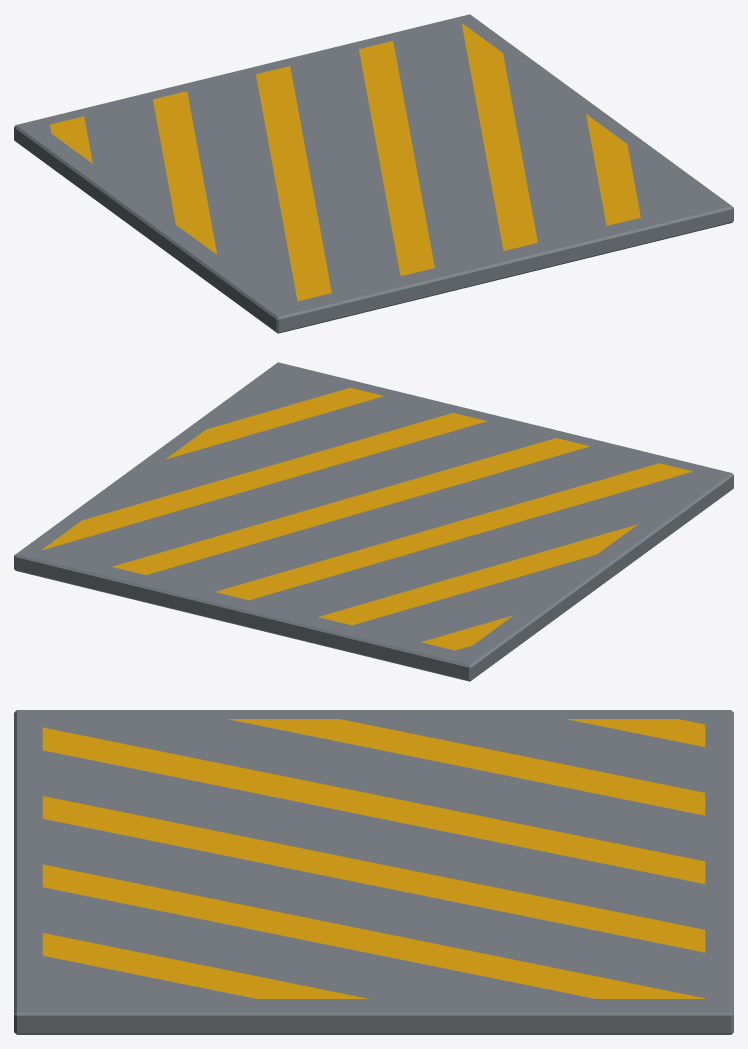
Rendered from YellowHatchTile.fbx.
3 renders of one model, top to bottom at view 1: azimuth 30°, elevation 25°; view 2: azimuth 150°, elevation 25°; view 3: azimuth 270°, elevation 25°, orthographic. The views are drawn at different scales.
Visible parts, largest first — view 1: YellowHatchTile; view 2: YellowHatchTile; view 3: YellowHatchTile.
Boxes of the visible parts, <box> form: YellowHatchTile: <box>14,14,733,333</box>; YellowHatchTile: <box>14,362,733,681</box>; YellowHatchTile: <box>14,710,733,1034</box>.
Bounding box in the file's own units: 200 × 7.6 × 200.
1 material, 1 textured.
